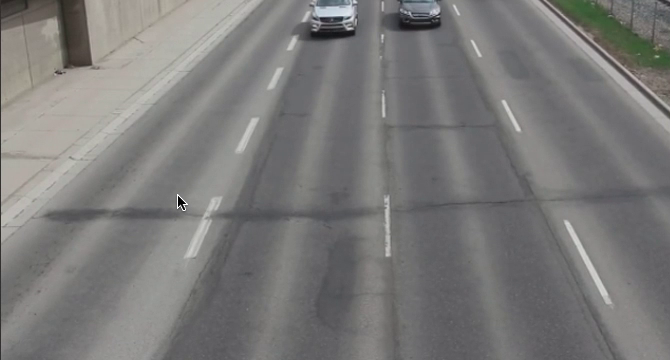car: (309, 1, 357, 39), (396, 1, 444, 30)
